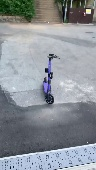beam: (41, 52, 61, 106)
